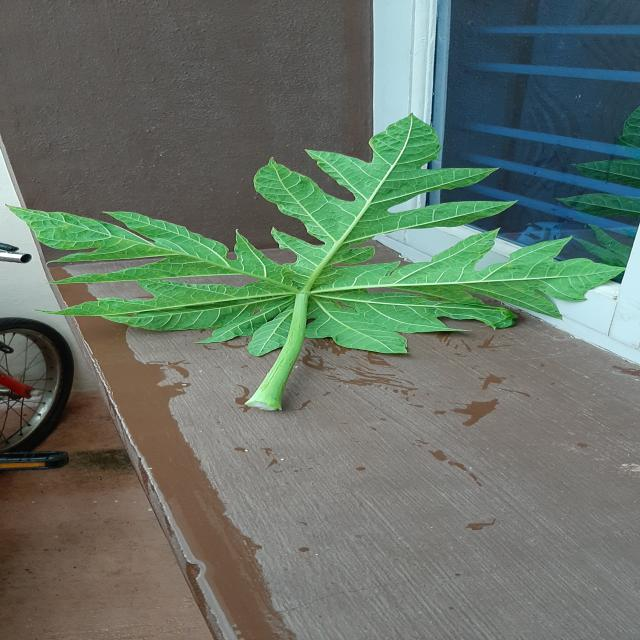papaya: (11, 116, 623, 410)
